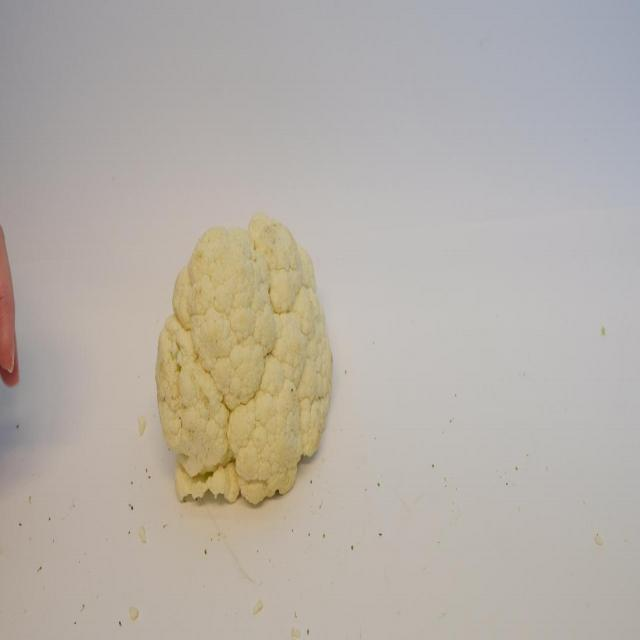cauliflower: (150, 210, 338, 515)
